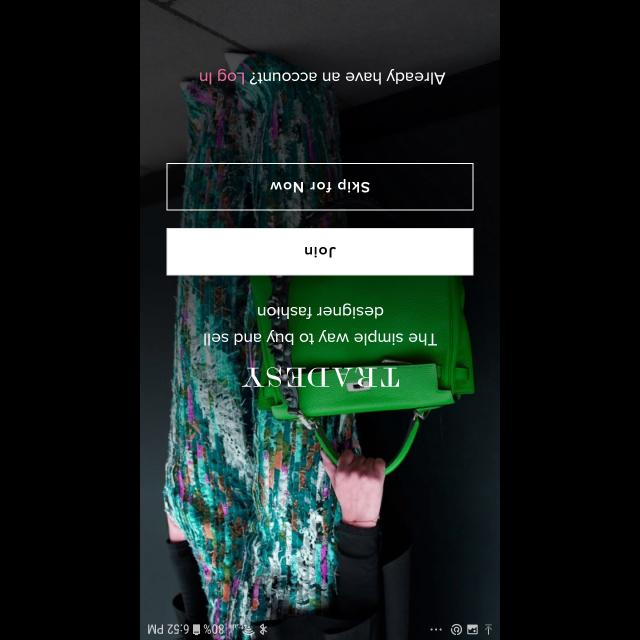backgroundimage: (140, 1, 500, 640)
text: (204, 303, 436, 345), (199, 69, 445, 85), (241, 367, 399, 387)
textbutton: (166, 162, 474, 210), (166, 228, 474, 276)
uppertaskbar: (148, 623, 494, 635)
